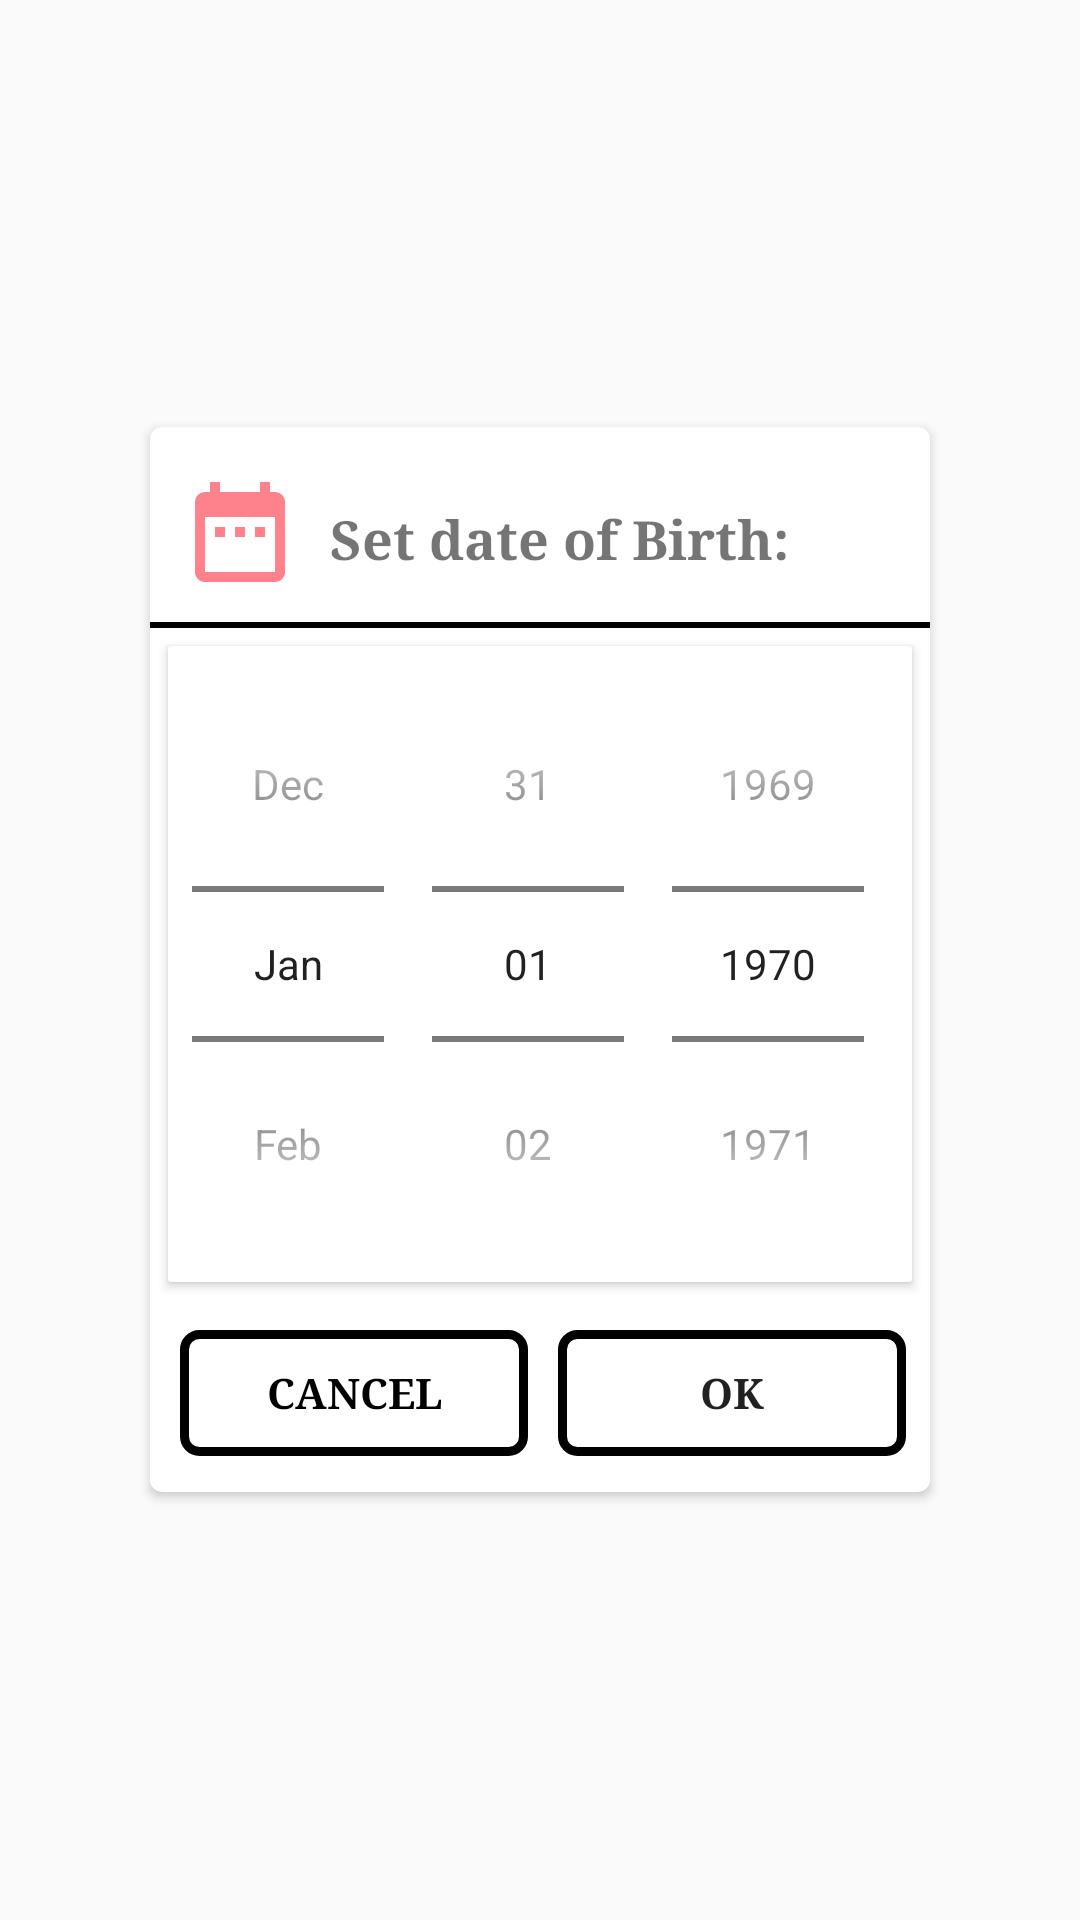

Named icons in this screenshot (1080*1920) and their bounding boxes, (x1=x1, y1=y1, x2=x2, y2=y2):
date range: (x1=195, y1=482, x2=285, y2=582)
